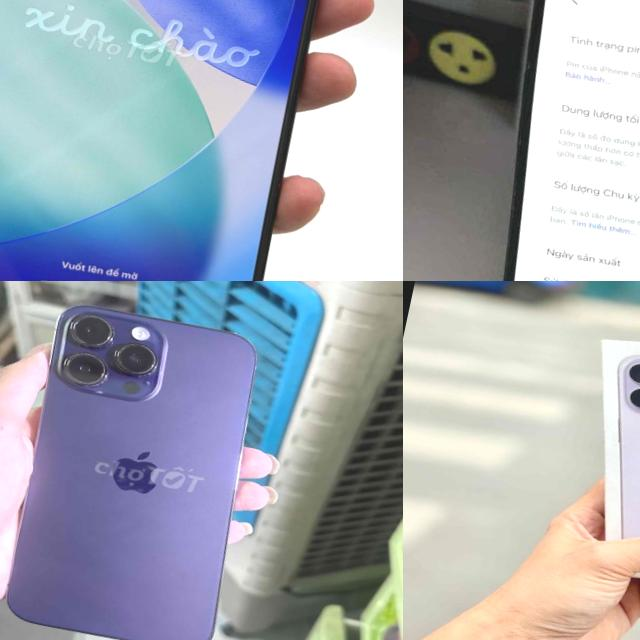gen_14: (0, 284, 287, 640)
gen_15: (0, 0, 390, 281), (430, 0, 640, 281)
